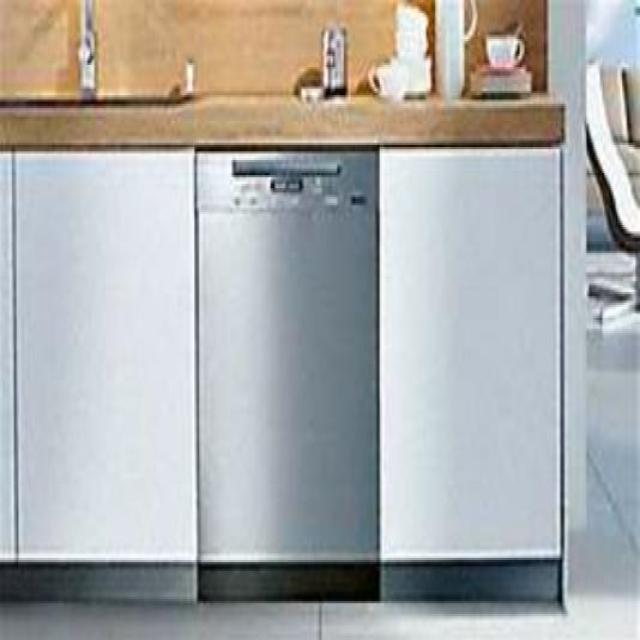dishwasher: (194, 141, 378, 588)
